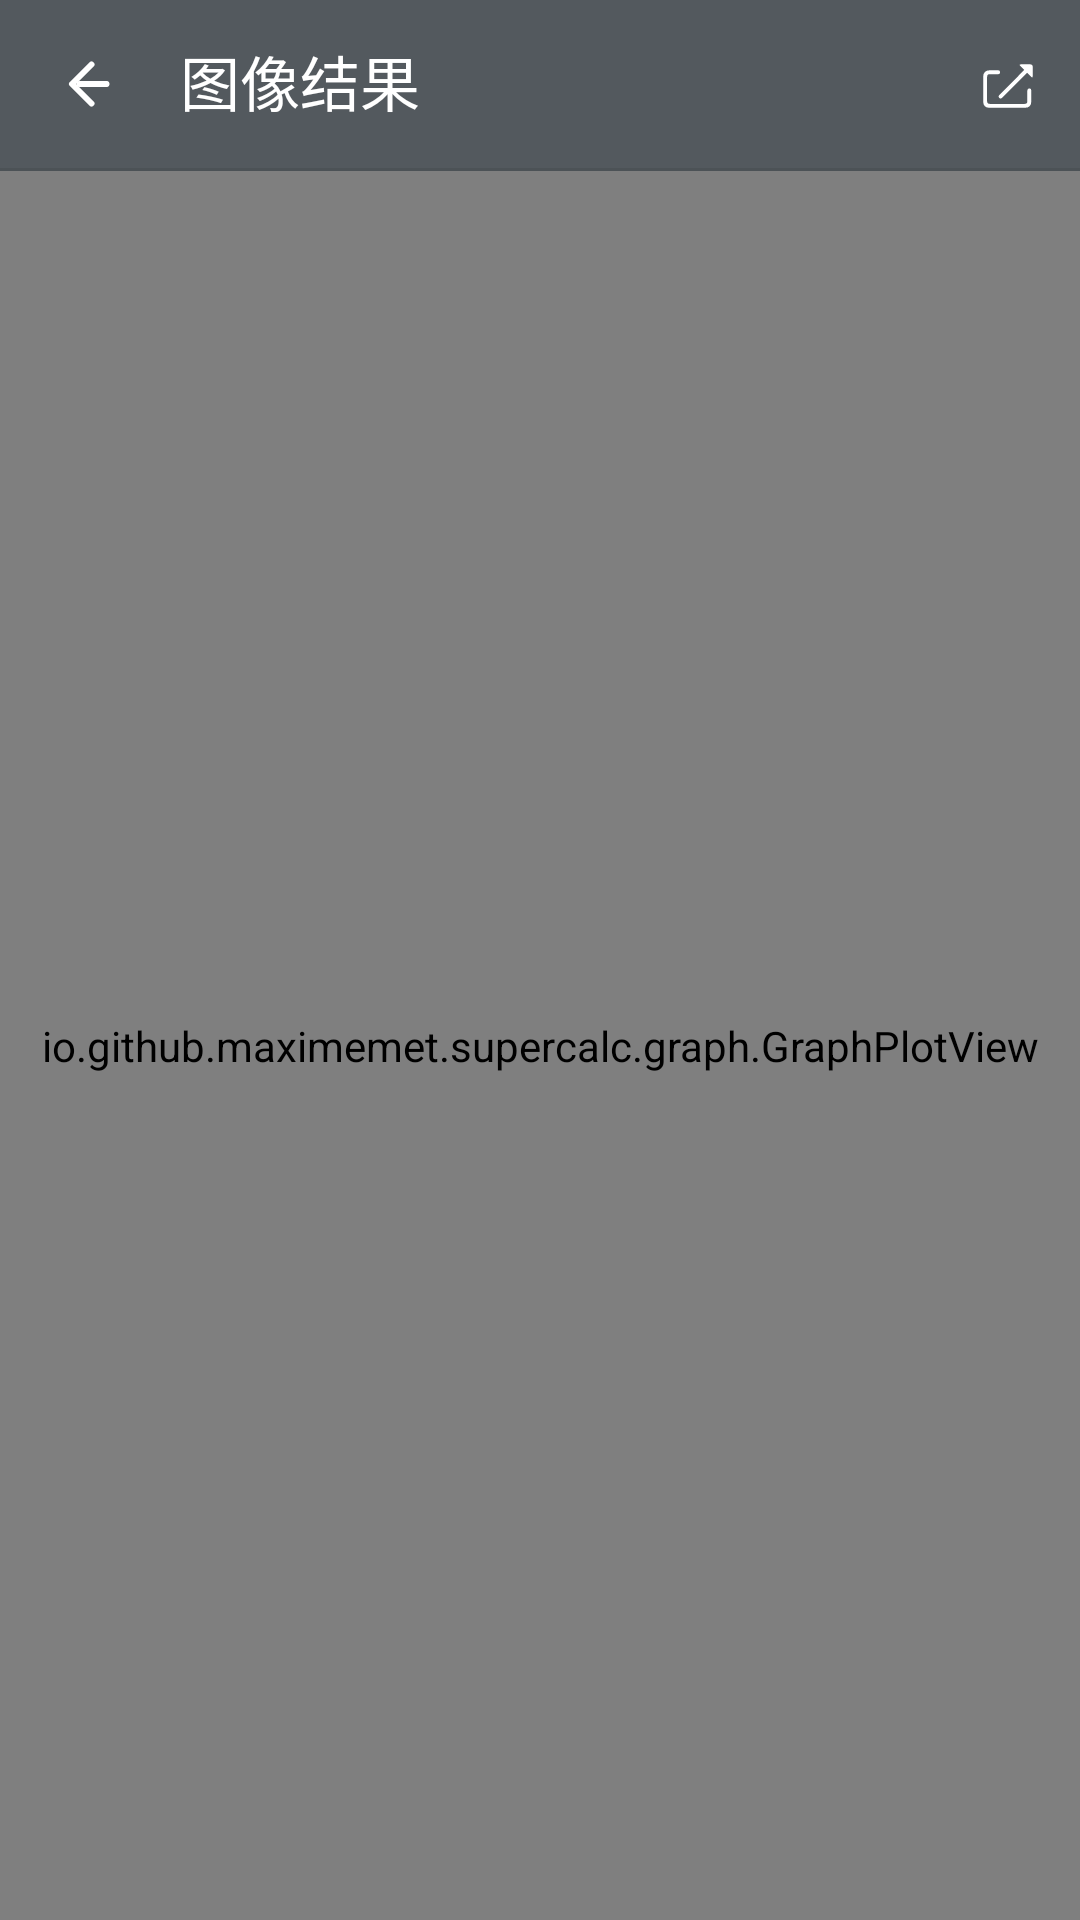

Locate icon controls on the screen. Image size 1080w x 1920h, boxes as [x1=x1, y1=y1, x2=x2, y2=y2].
分享: [x1=983, y1=64, x2=1033, y2=108]
返回: [x1=69, y1=61, x2=110, y2=107]
